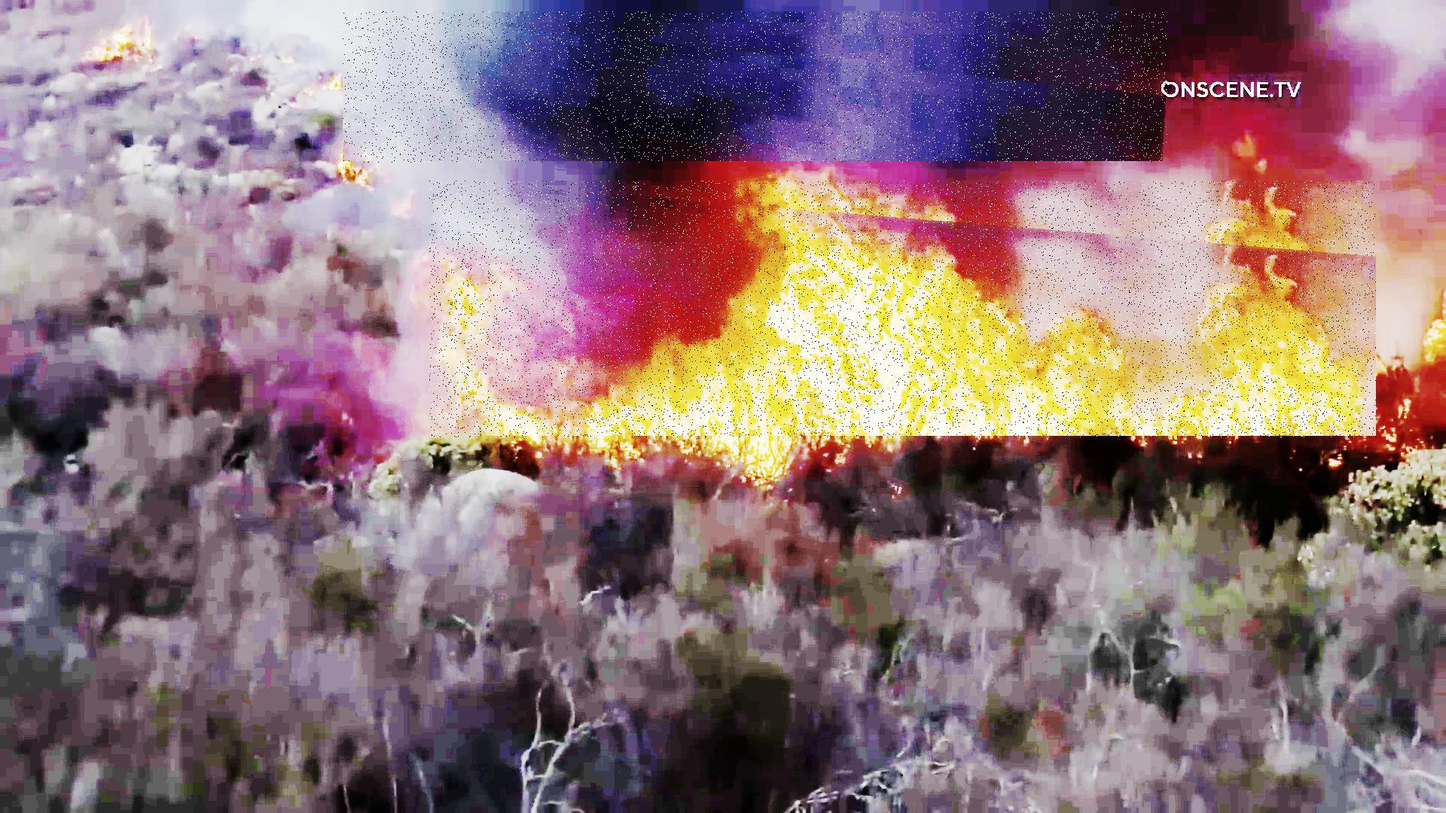fire: (429, 181, 1376, 438)
smoke: (343, 12, 1168, 163)
